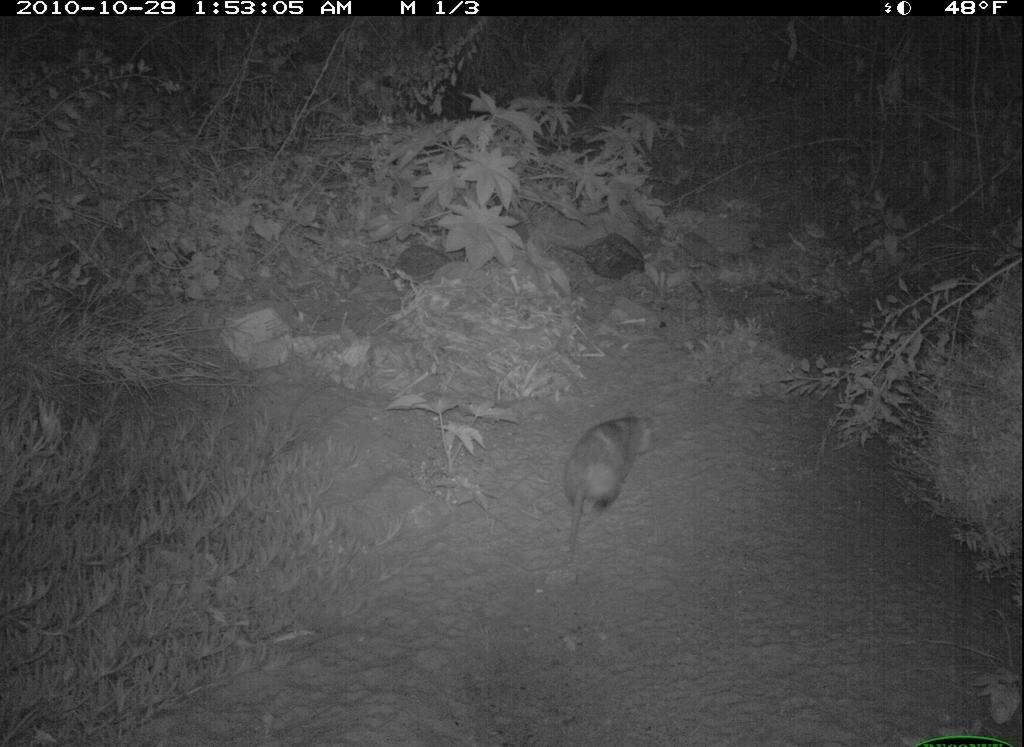badger: (560, 235, 649, 281), (391, 243, 474, 288)
